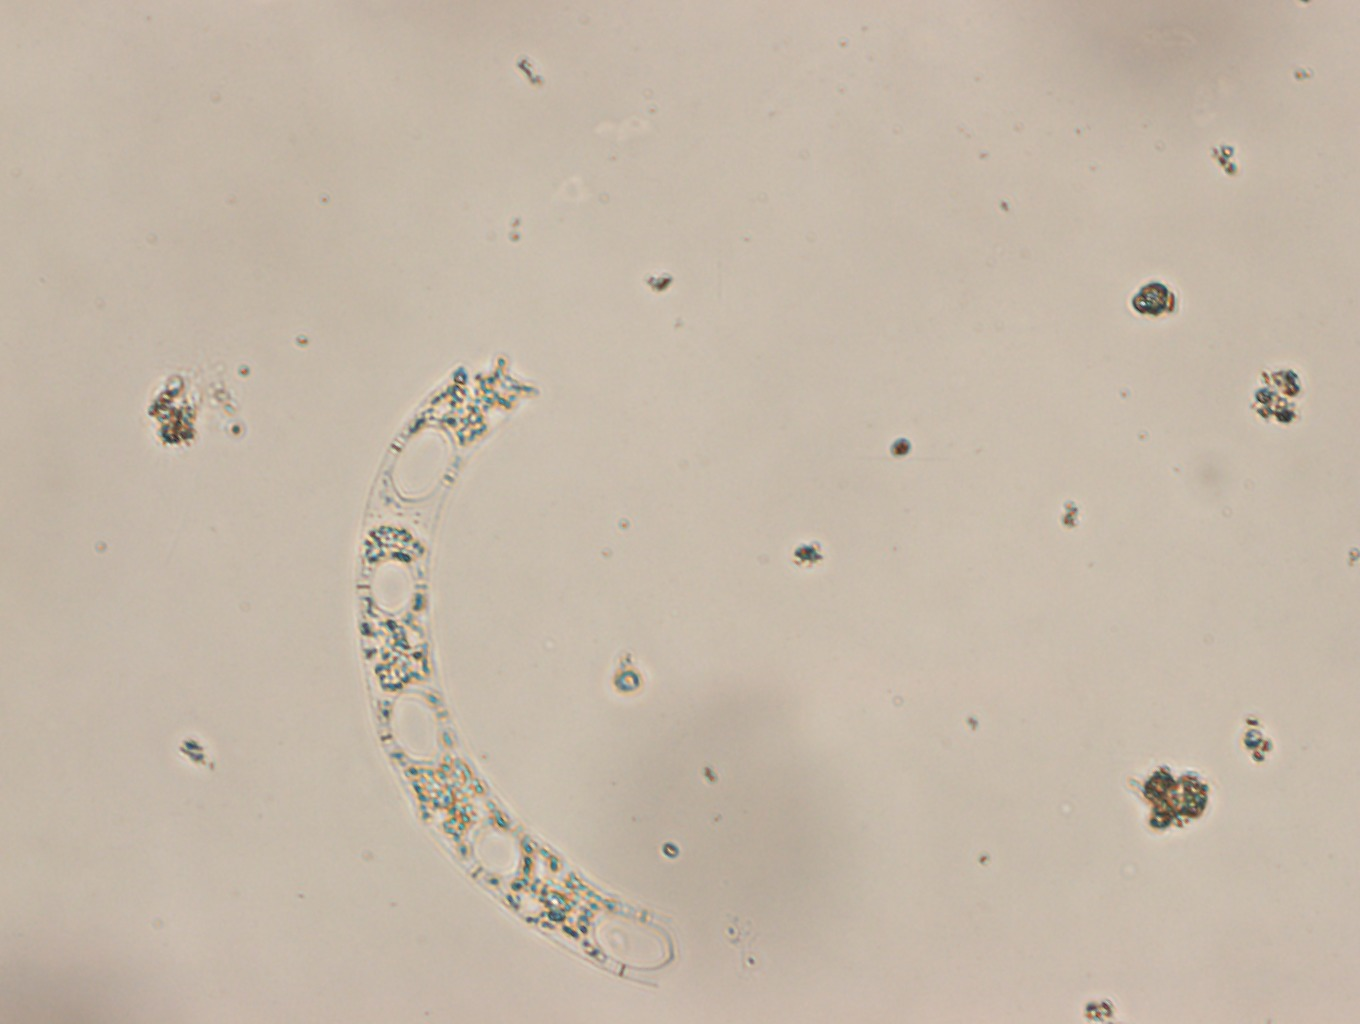eucampia: (355, 355, 690, 995)
